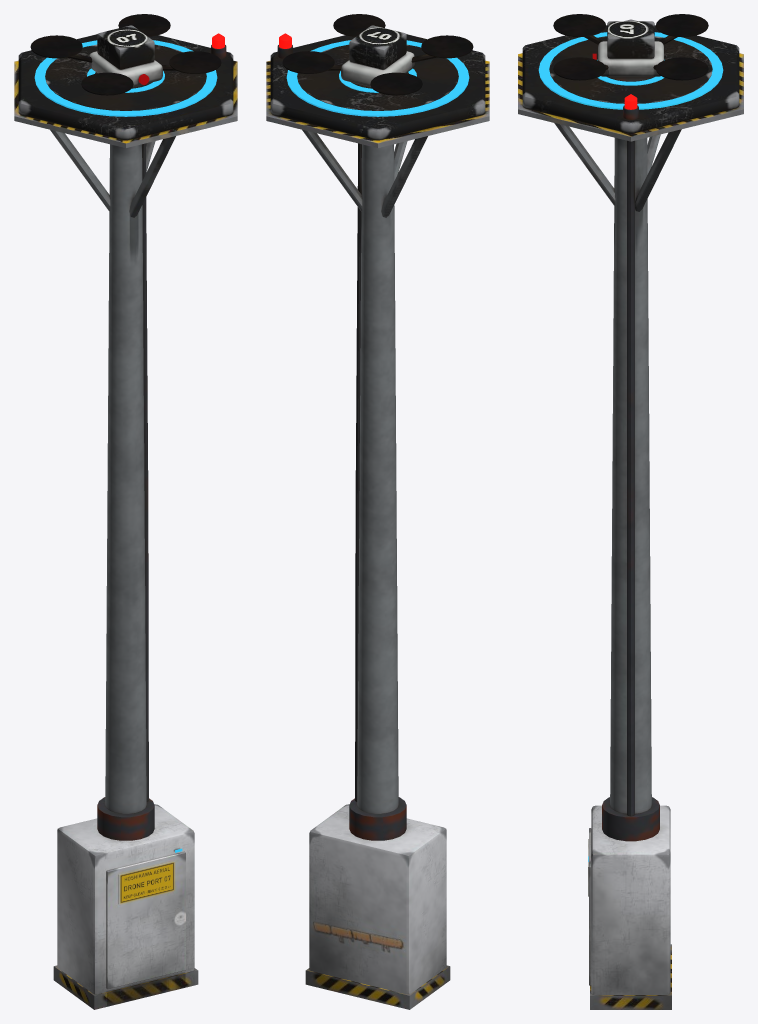
Rendered from drone_mast.glb.
3 views of the same model, side by side, from view 1: azimuth 30°, elevation 25°; view 2: azimuth 150°, elevation 25°; view 3: azimuth 270°, elevation 25° (orthographic).
Parts seen in each view (by area): view 1: drone_mast; view 2: drone_mast; view 3: drone_mast.
Part boxes in pixels (box(x1,y1,x2,y2)): drone_mast: box(14, 14, 237, 1009); drone_mast: box(266, 14, 489, 1009); drone_mast: box(518, 14, 743, 1009).
Size of what is drawn, in the model's own units: 1.98 by 8 by 1.71.
Materials: 1 (1 with a texture image).
